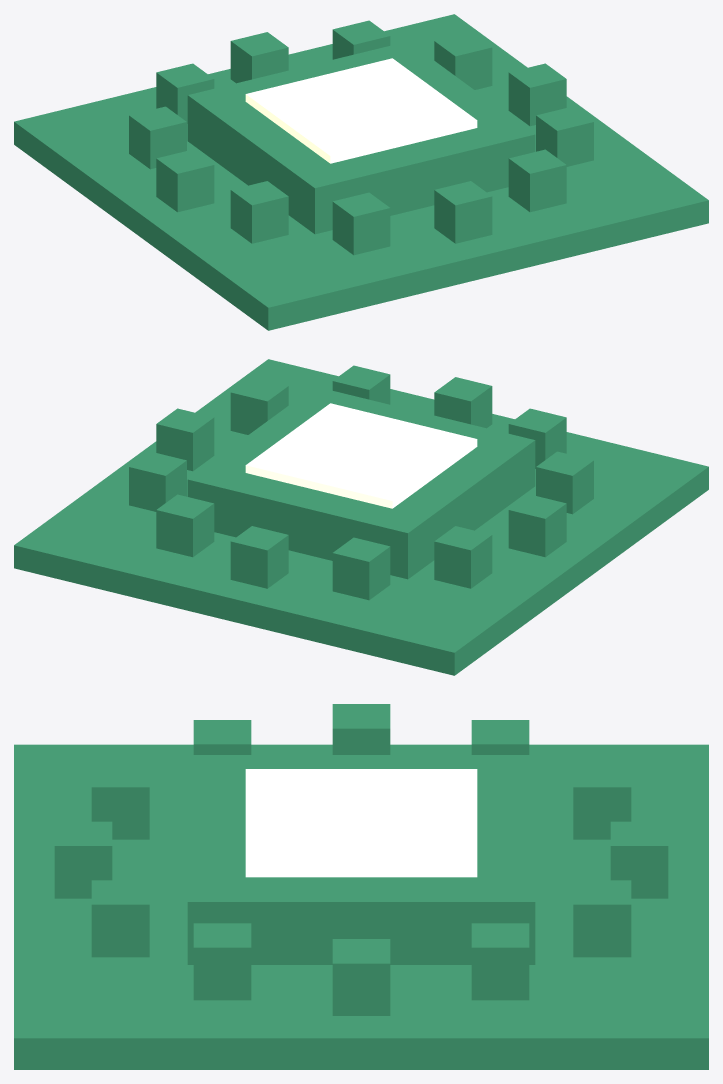
3 views of the same model, one above another, from view 1: azimuth 30°, elevation 25°; view 2: azimuth 150°, elevation 25°; view 3: azimuth 270°, elevation 25° (orthographic). The views are drawn at different scales.
Size of the model in its own units: 0.6 by 0.1 by 0.6.
